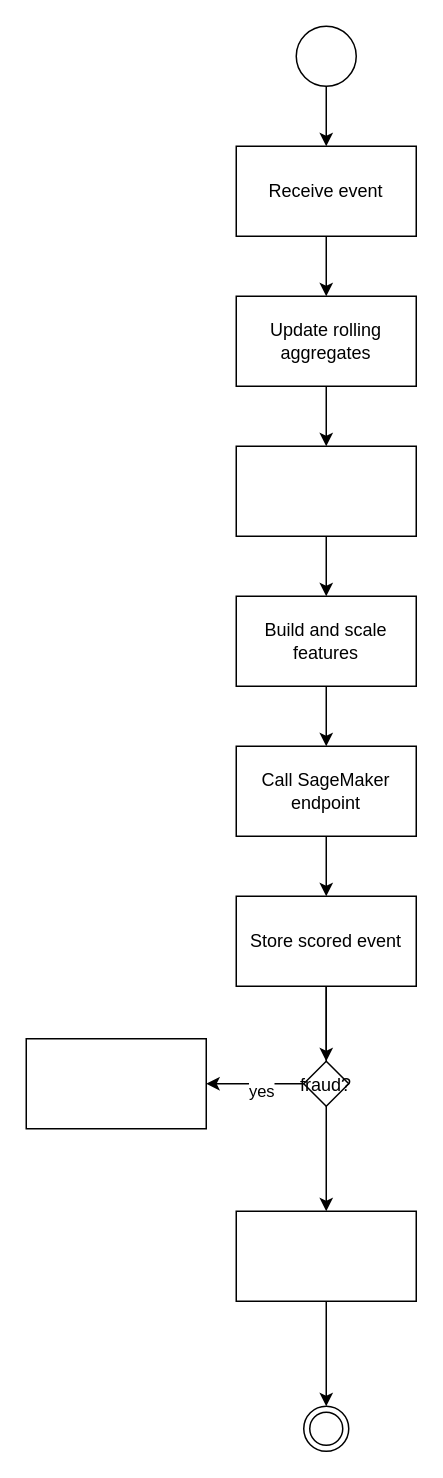
The diagram is 443 pixels wide and 1478 high, and some of its shapes have lost their labels. The shapes that lost their labels are listed below. From the top down, each one's centre as x and y in pixels, then its label:
pixel 325 490: Join demographics (broadcast)
pixel 115 1083: Publish alert to SNS
pixel 325 1255: Next event
